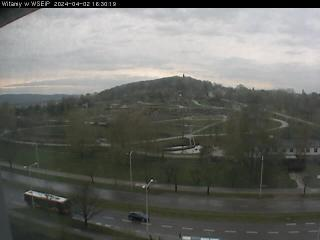bus: (24, 189, 71, 215)
car: (127, 209, 149, 222)
